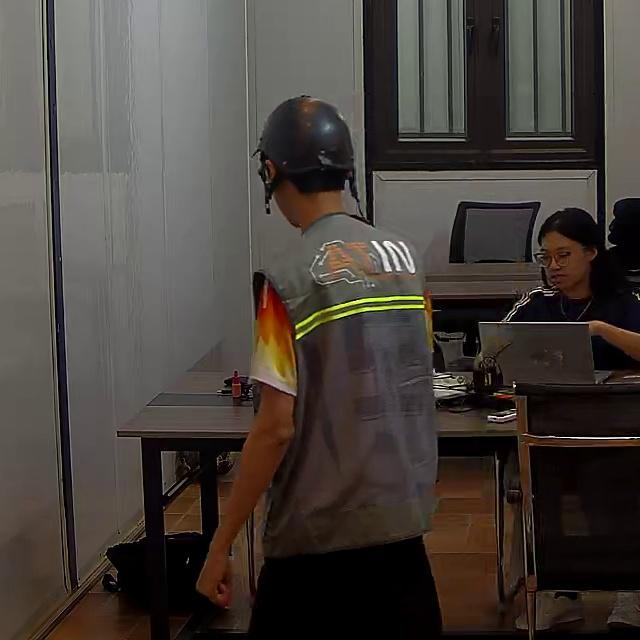helmet: (254, 94, 358, 214)
no_helmet: (539, 207, 610, 259)
none: (503, 284, 638, 371)
vest: (258, 222, 437, 556)
